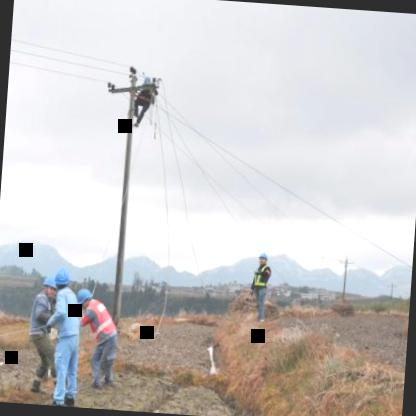helmet: (72, 285, 97, 312), (53, 263, 76, 292), (40, 273, 58, 300), (256, 250, 270, 268)
